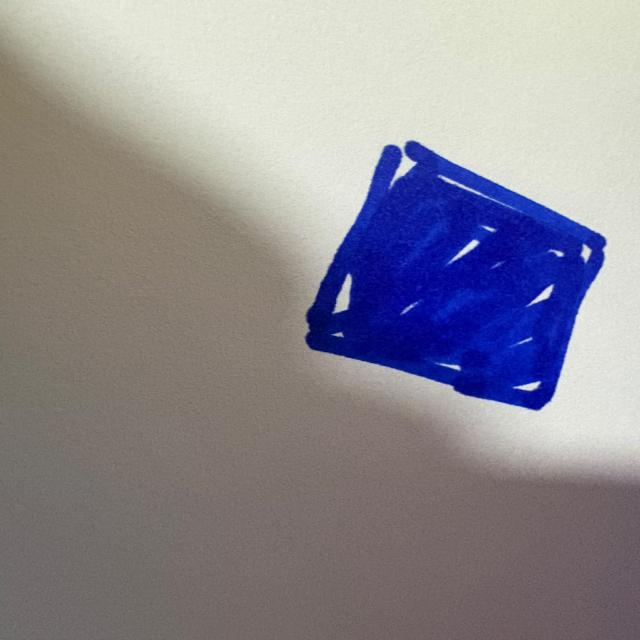Square: (306, 141, 605, 410)
